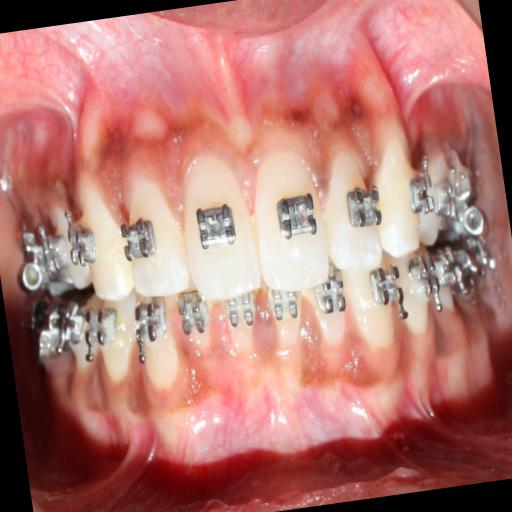correct_brace: (191, 199, 242, 256), (273, 191, 322, 244)
